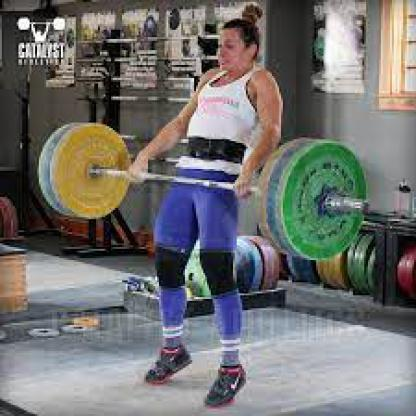barbell: (38, 122, 372, 260)
